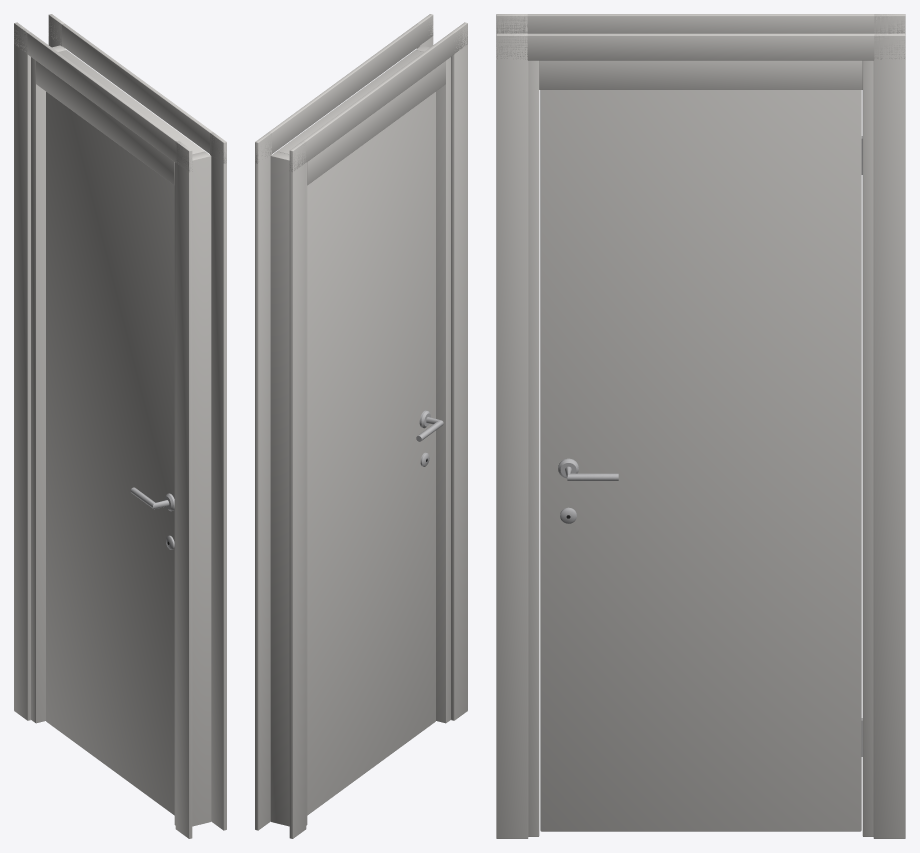
File: recvpAtvbr2teJ5wm.glb
3 renders of one model, left to right at view 1: azimuth 30°, elevation 25°; view 2: azimuth 150°, elevation 25°; view 3: azimuth 270°, elevation 25°, orthographic. The views are drawn at different scales.
Visible parts, largest first — view 1: porte_douche_etage__battant, porte_douche_etage__cadre; view 2: porte_douche_etage__battant, porte_douche_etage__cadre; view 3: porte_douche_etage__battant, porte_douche_etage__cadre.
Part boxes in pixels (left/top/right/bottom): porte_douche_etage__battant: left=46, top=92, right=174, bottom=815; porte_douche_etage__cadre: left=14, top=14, right=226, bottom=838; porte_douche_etage__battant: left=307, top=92, right=443, bottom=815; porte_douche_etage__cadre: left=255, top=14, right=467, bottom=838; porte_douche_etage__battant: left=540, top=90, right=862, bottom=831; porte_douche_etage__cadre: left=496, top=14, right=905, bottom=838.
Bounding box in the file's own units: 0.1689 × 2.21 × 1.02.
Materials: 3 (1 with a texture image).
